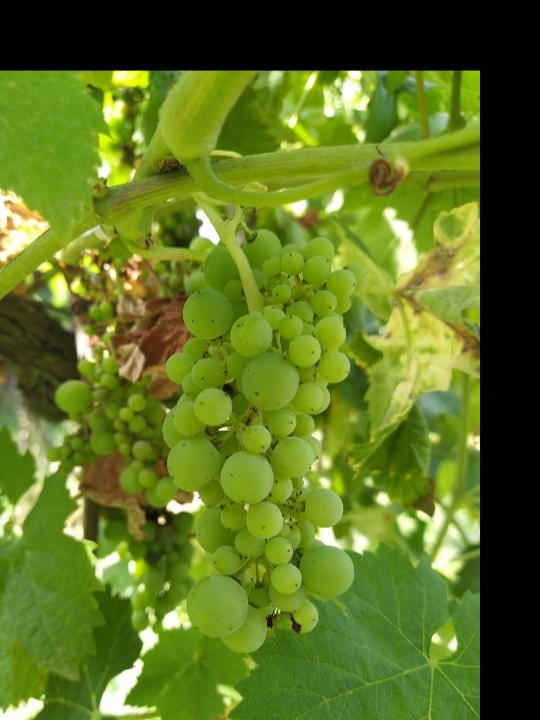grape: (161, 225, 360, 655)
